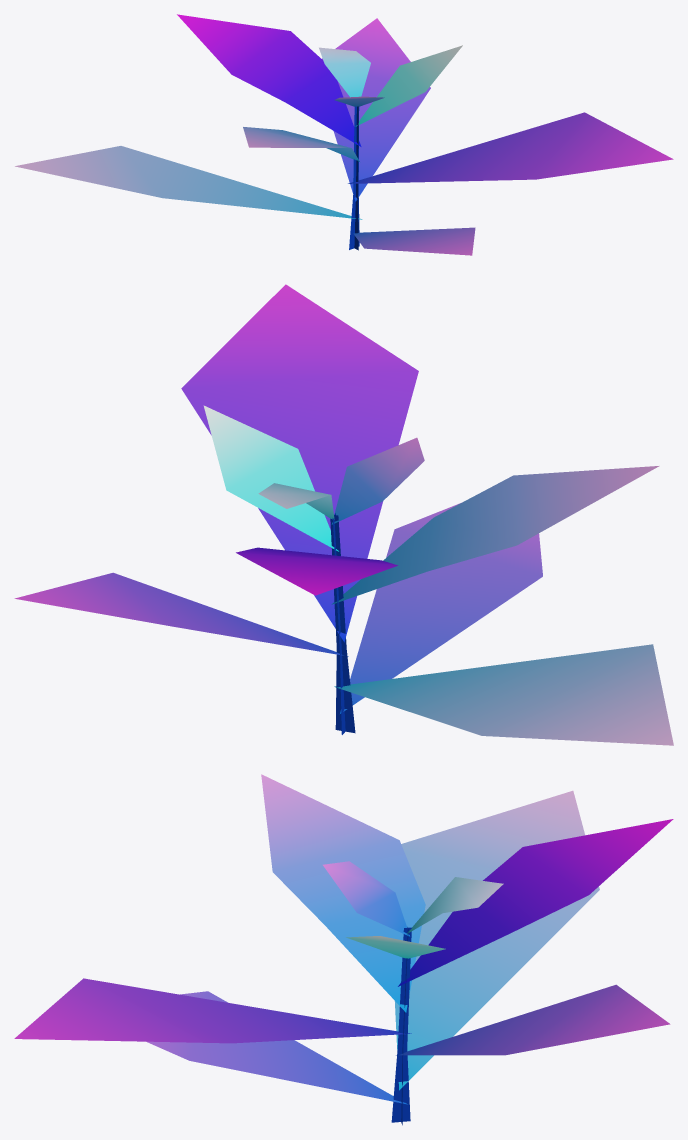
File: xefmcgrqx_VarA_LOD1.fbx
3 views of the same model, one above another, from view 1: azimuth 30°, elevation 25°; view 2: azimuth 150°, elevation 25°; view 3: azimuth 270°, elevation 25° (orthographic). The views are drawn at different scales.
Parts seen in each view (by area): view 1: _i93y_VarA_LOD4; view 2: _i93y_VarA_LOD4; view 3: _i93y_VarA_LOD4.
Boxes of the visible parts, x1,y1,x2,y2 form: _i93y_VarA_LOD4: [15, 14, 673, 255]; _i93y_VarA_LOD4: [14, 284, 673, 745]; _i93y_VarA_LOD4: [14, 774, 673, 1125].
Size of the model in its own units: 26.78 by 10.3 by 24.21.
